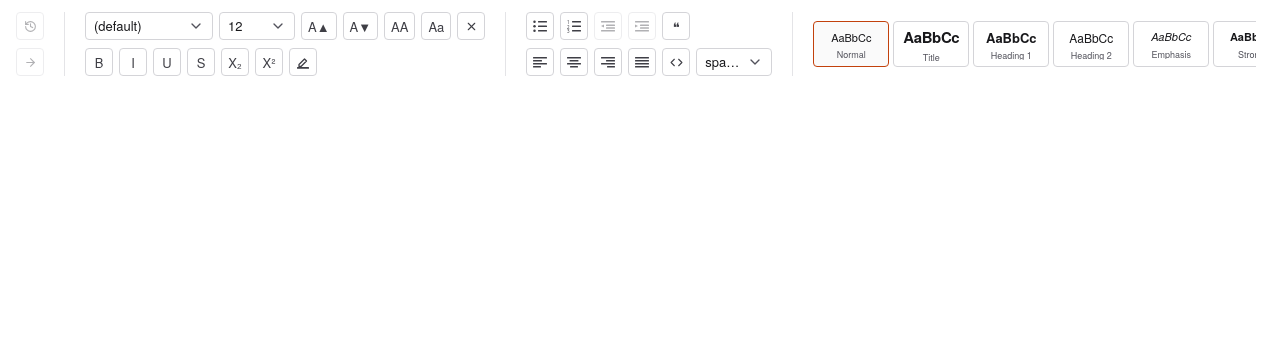
the formatting ribbon › applies a font family to the real document
This screenshot has width=1273, height=359.
Click the dropdown named "font" at [149, 26], box 85,12 -> 213,40
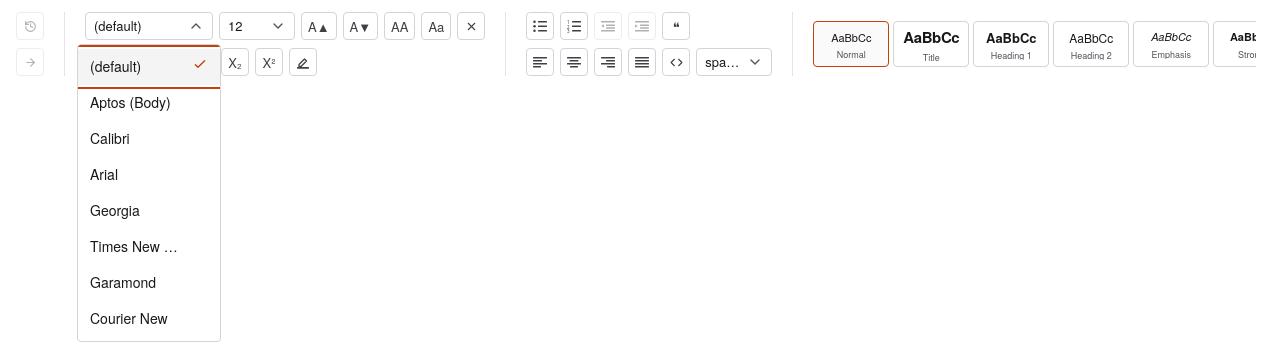
Click the option "Georgia" at [115, 210], box 90,200 -> 140,220
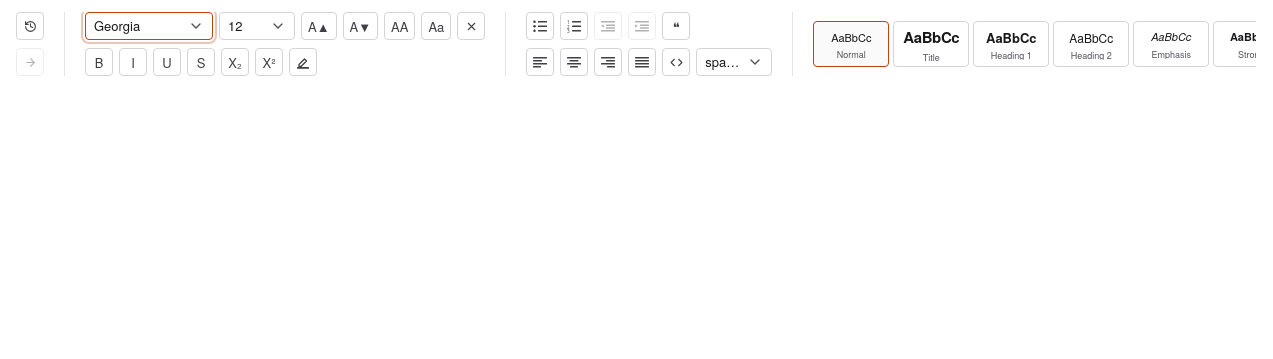
Now the list is gone
